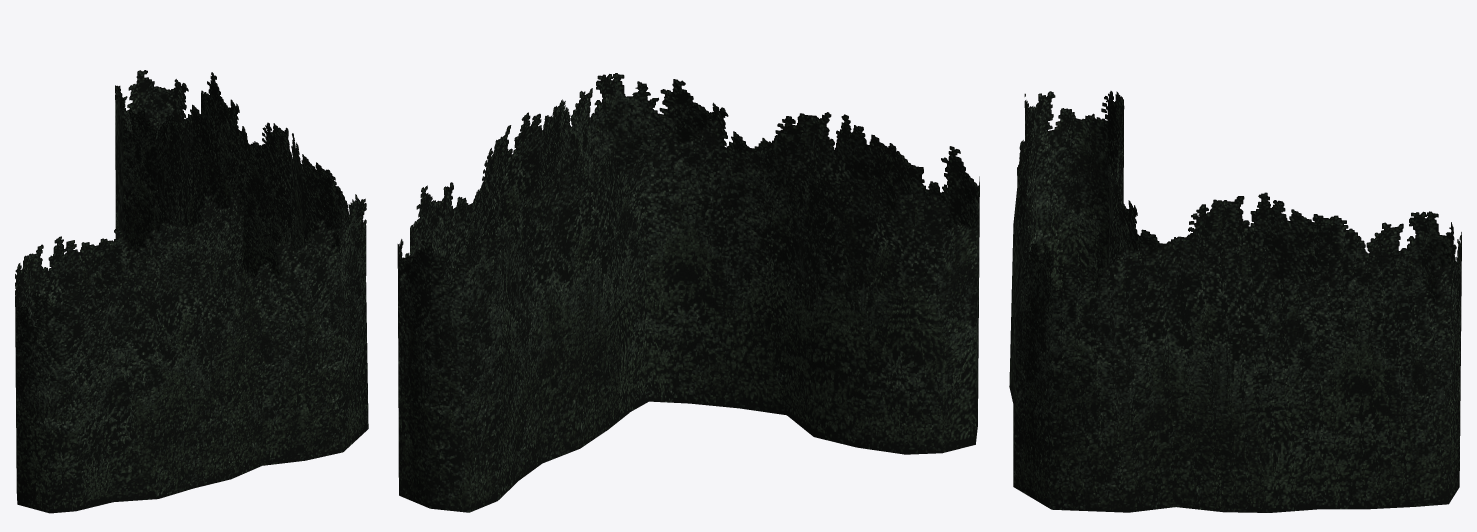
The model's file is SM_EC_ScrubLine_7.fbx.
The picture shows the model from 3 angles, left to right: view 1: azimuth 30°, elevation 25°; view 2: azimuth 150°, elevation 25°; view 3: azimuth 270°, elevation 25°; orthographic projection. The views are drawn at different scales.
Parts seen in each view (by area): view 1: SM_EC_ScrubLine_7; view 2: SM_EC_ScrubLine_7; view 3: SM_EC_ScrubLine_7.
Boxes of the visible parts, bbox=[...] form: SM_EC_ScrubLine_7: bbox=[15, 70, 368, 513]; SM_EC_ScrubLine_7: bbox=[397, 73, 979, 512]; SM_EC_ScrubLine_7: bbox=[1009, 91, 1461, 512].
Bounding box in the file's own units: 5.07 × 5.19 × 4.
